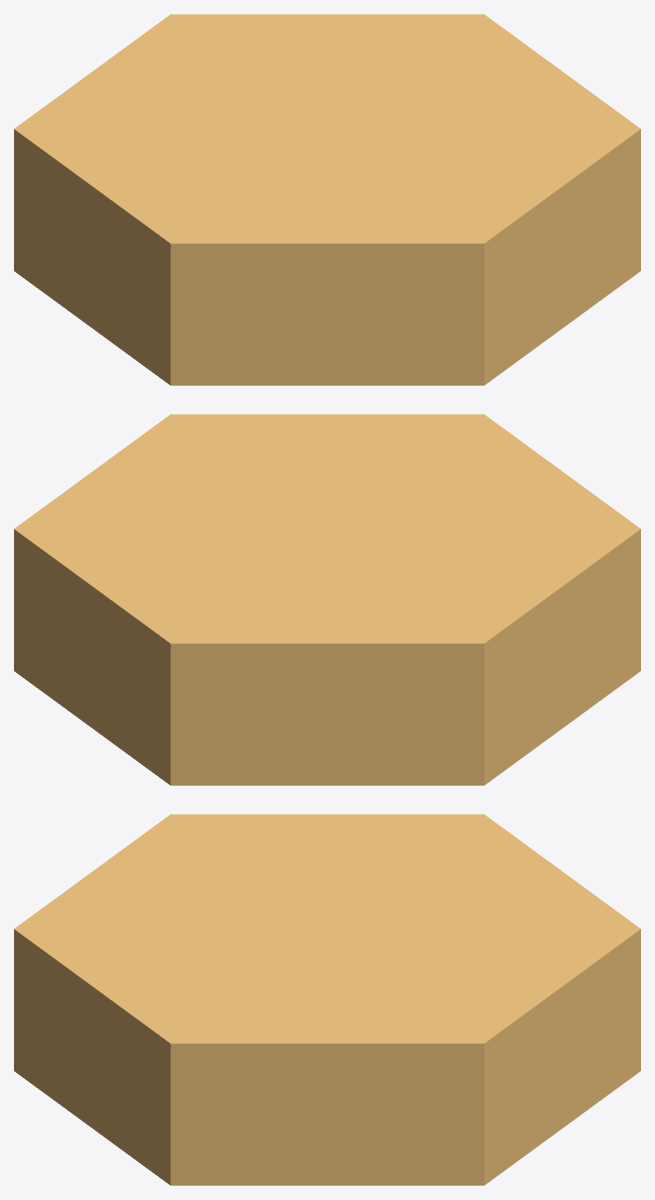
3 renders of one model, top to bottom at view 1: azimuth 30°, elevation 25°; view 2: azimuth 150°, elevation 25°; view 3: azimuth 270°, elevation 25°, orthographic.
Visible parts, largest first — view 1: WoodenWallInside; view 2: WoodenWallInside; view 3: WoodenWallInside.
Boxes of the visible parts, x1=… form: WoodenWallInside: x1=14, y1=14, x2=640, y2=385; WoodenWallInside: x1=14, y1=414, x2=640, y2=785; WoodenWallInside: x1=14, y1=814, x2=640, y2=1185.
Size of the model in its own units: 1.73 by 0.5 by 2.
Materials: 1 (1 with a texture image).
